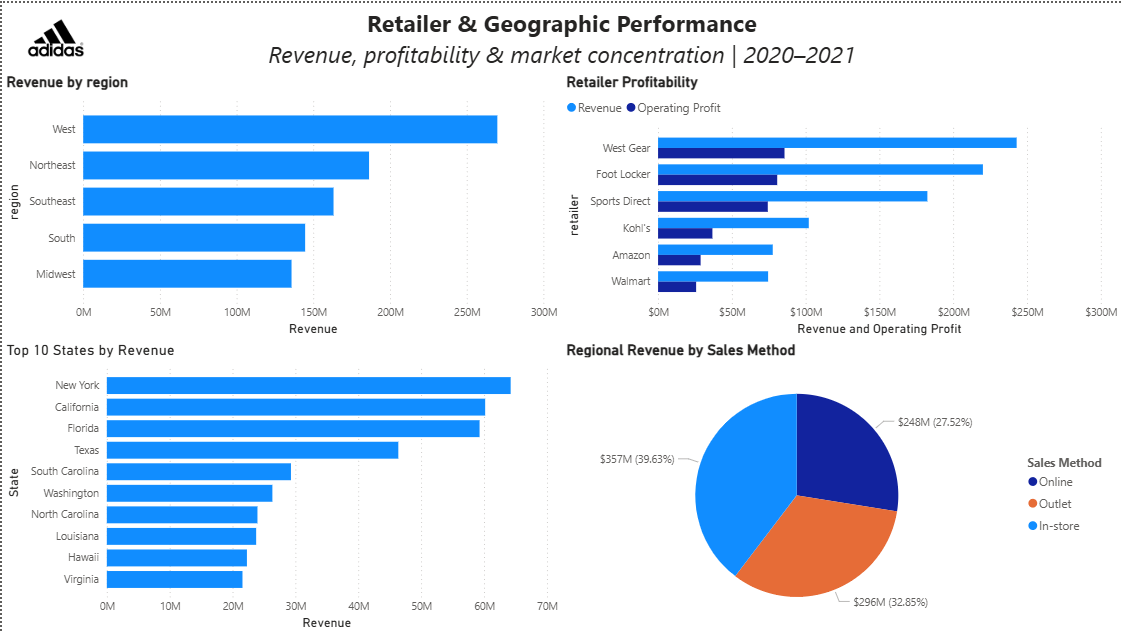

Layout of this report page (visuals, bound fields, positions):
{"tool":"powerbi","page":{"name":"Retailer & Geographic Performance","canvas":[1280,720],"ordinal":2},"visuals":[{"type":"textbox","box":[0,0,1280,80],"z":0},{"type":"clusteredBarChart","fields":{"Category":["adidas_sales.region"],"Y":["adidas_sales.adidas Total Sales"]},"box":[0,80,640,305],"z":1000},{"type":"clusteredBarChart","title":"Top 10 States by Revenue","fields":{"Category":["adidas_sales.state"],"Y":["adidas_sales.adidas Total Sales"]},"box":[0,385,640,335],"z":3000},{"type":"clusteredBarChart","title":"Retailer Profitability","fields":{"Category":["adidas_sales.retailer"],"Y":["adidas_sales.adidas Total Sales","adidas_sales.adidas Operating Profit"]},"box":[640,80,640,305],"z":4000},{"type":"actionButton","box":[0,0,100,40],"z":5000},{"type":"pieChart","title":"Regional Revenue  by Sales Method","fields":{"Category":["adidas_sales.region","adidas_sales.sales_method"],"Y":["adidas_sales.adidas Total Sales"]},"box":[640,385,640,335],"z":6000},{"type":"image","box":[13.3,0,121.7,80],"z":7000}]}

Visuals, with their boxes in screenshot pixels (x1, y1, x2, y2), scaled from the page's 1280x720 canvas onto the 1122x631 screenshot:
textbox: (left=0, top=0, right=1121, bottom=70)
clusteredBarChart - adidas_sales.region x adidas_sales.adidas Total Sales: (left=0, top=70, right=561, bottom=337)
"Top 10 States by Revenue" clusteredBarChart: (left=0, top=337, right=561, bottom=630)
"Retailer Profitability" clusteredBarChart: (left=561, top=70, right=1121, bottom=337)
actionButton: (left=0, top=0, right=88, bottom=35)
"Regional Revenue  by Sales Method" pieChart: (left=561, top=337, right=1121, bottom=630)
image: (left=12, top=0, right=118, bottom=70)
